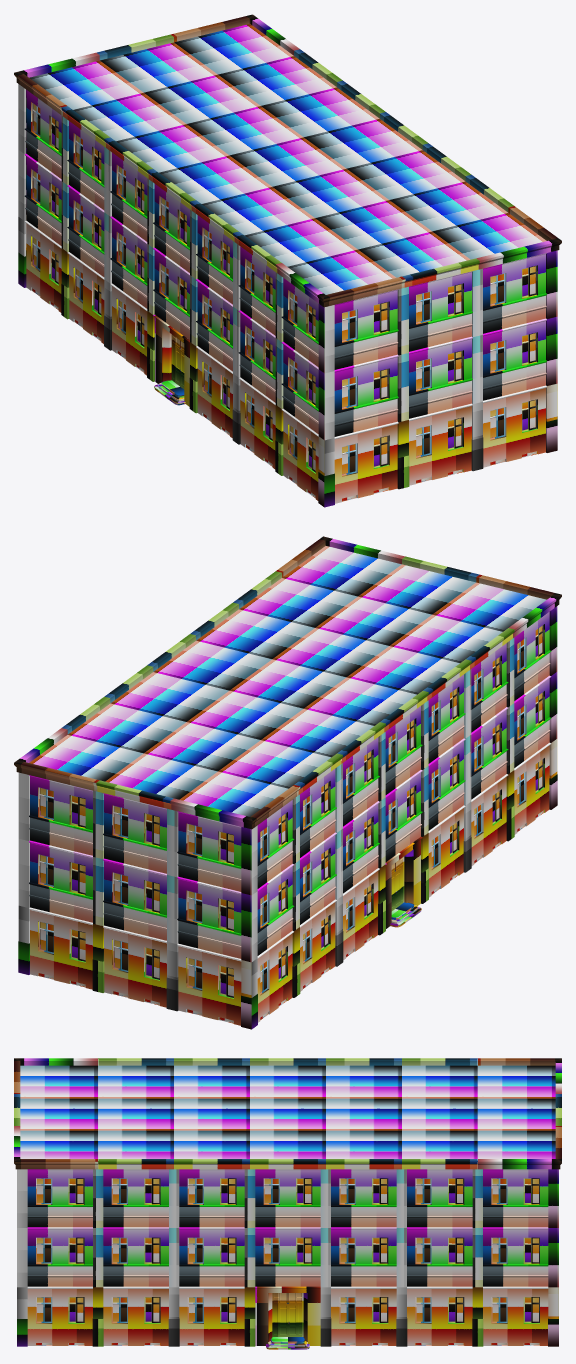
File: building4.obj
3 views of the same model, one above another, from view 1: azimuth 30°, elevation 25°; view 2: azimuth 150°, elevation 25°; view 3: azimuth 270°, elevation 25° (orthographic). The views are drawn at different scales.
Parts seen in each view (by area): view 1: Object_4; view 2: Object_4; view 3: Object_4.
Boxes of the visible parts, x1=… form: Object_4: x1=14, y1=14, x2=561, y2=507; Object_4: x1=14, y1=536, x2=561, y2=1029; Object_4: x1=14, y1=1058, x2=561, y2=1349.
Bounding box in the file's own units: 20.89 × 17 × 45.29.
